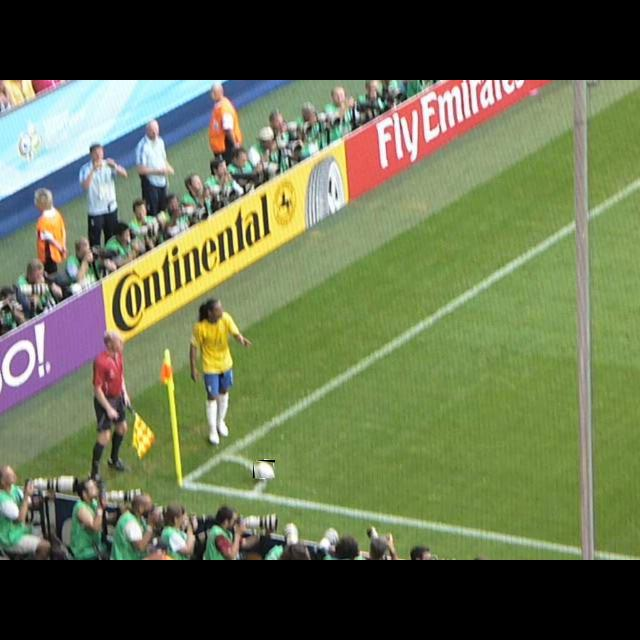Football: (253, 460, 275, 478)
